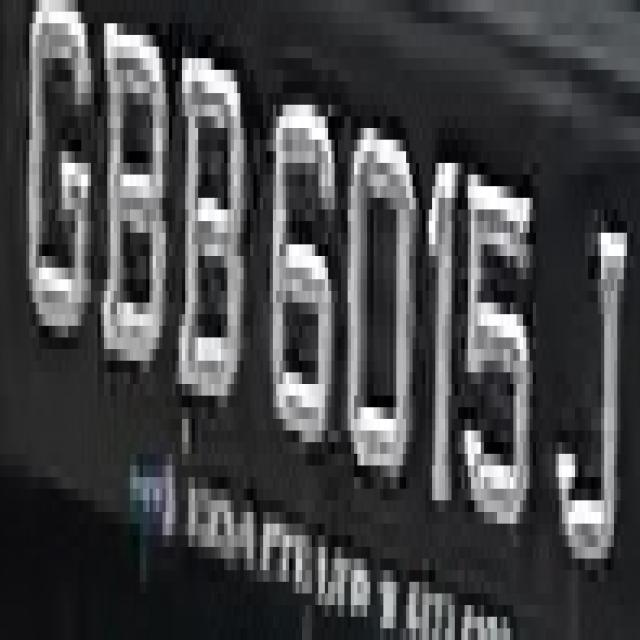0: (338, 116, 419, 489)
1: (422, 93, 462, 559)
5: (458, 117, 536, 536)
6: (270, 70, 338, 477)
B: (172, 35, 247, 442), (100, 12, 166, 407)
G: (17, 35, 98, 372)
J: (546, 163, 627, 605)
